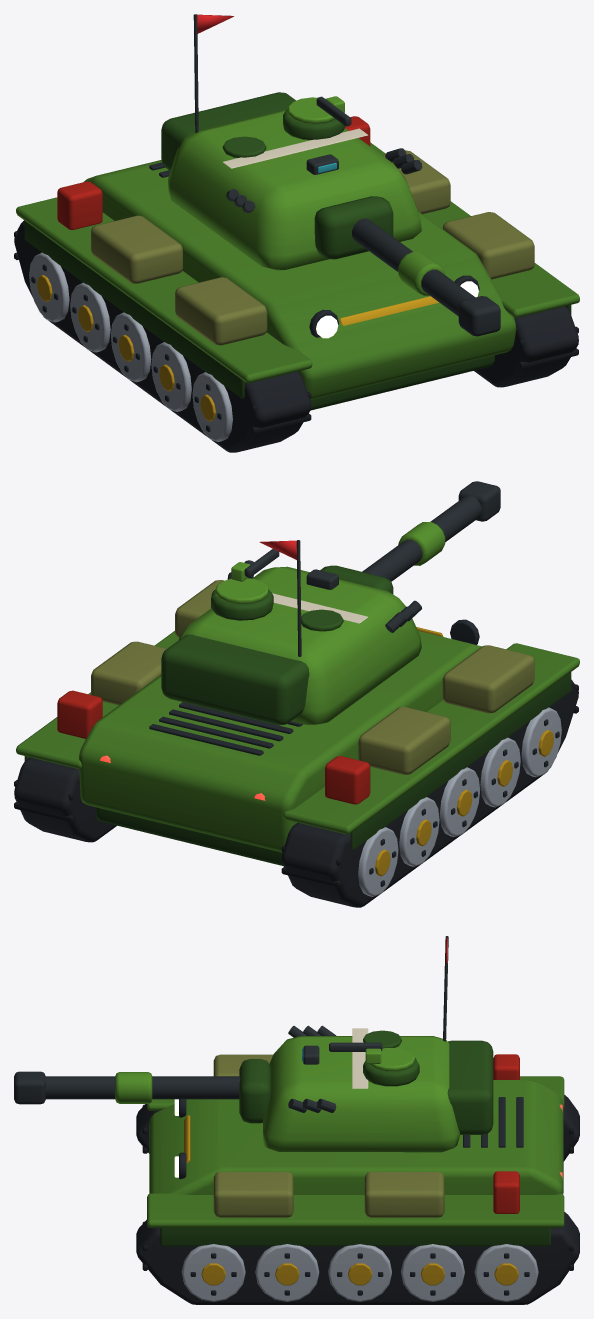
The model's file is tank.glb.
3 views of the same model, one above another, from view 1: azimuth 30°, elevation 25°; view 2: azimuth 150°, elevation 25°; view 3: azimuth 270°, elevation 25° (orthographic). The views are drawn at different scales.
Visible parts, largest first — view 1: Hull, Turret, Track guard, Track housing, Stowage box, Stowage box.001, Track housing.001, Side skirt, Stowage box.002, Track guard.001, Gun mantlet, Turret bustle (+16 smaller); view 2: Hull, Turret, Turret bustle, Track guard, Track housing, Track housing.001, Stowage box, Stowage box.001, Side skirt, Stowage box.003, Belly, Cannon (+21 smaller); view 3: Hull, Turret, Track housing.001, Track guard.001, Side skirt.001, Turret bustle, Cannon, Stowage box.003, Stowage box.002, Road wheel.005, Road wheel.008, Road wheel.006 (+15 smaller).
Part boxes in pixels (x1,y1,x2,y2): Hull: [83, 160, 516, 399]; Turret: [168, 109, 421, 270]; Track guard: [16, 197, 312, 383]; Track housing: [14, 220, 311, 452]; Stowage box: [175, 277, 267, 345]; Stowage box.001: [91, 215, 182, 283]; Track housing.001: [474, 306, 578, 387]; Side skirt: [24, 221, 245, 398]; Stowage box.002: [442, 212, 534, 279]; Track guard.001: [370, 142, 579, 317]; Gun mantlet: [314, 196, 393, 259]; Turret bustle: [161, 92, 295, 170]; Hull: [79, 631, 481, 852]; Turret: [178, 566, 421, 725]; Turret bustle: [161, 634, 309, 725]; Track guard: [283, 643, 579, 834]; Track housing: [282, 679, 578, 907]; Track housing.001: [14, 757, 116, 842]; Stowage box: [442, 645, 534, 713]; Stowage box.001: [358, 707, 450, 774]; Side skirt: [350, 672, 571, 849]; Stowage box.003: [91, 641, 166, 705]; Belly: [96, 807, 283, 865]; Cannon: [362, 495, 481, 581]; Hull: [149, 1080, 563, 1194]; Turret: [263, 1036, 460, 1152]; Track housing.001: [136, 1212, 579, 1304]; Track guard.001: [147, 1193, 564, 1227]; Side skirt.001: [160, 1228, 550, 1246]; Turret bustle: [447, 1040, 493, 1134]; Cannon: [44, 1076, 240, 1099]; Stowage box.003: [364, 1172, 444, 1217]; Stowage box.002: [213, 1172, 293, 1217]; Road wheel.005: [181, 1244, 245, 1301]; Road wheel.008: [401, 1244, 464, 1301]; Road wheel.006: [255, 1244, 319, 1301].
Bounding box in the file's own units: 3.98 × 3.45 × 6.38.
Materials: 14 (12 with a texture image).
